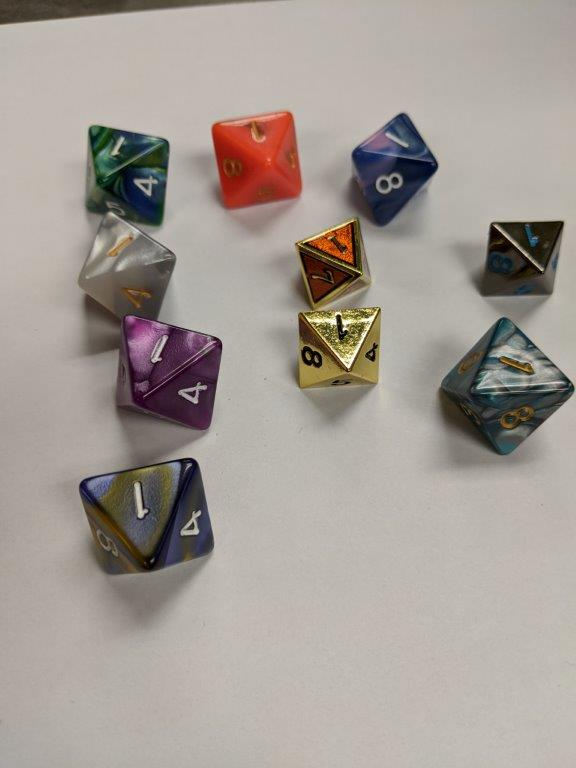d8-1: (435, 314, 575, 457), (86, 457, 215, 577), (111, 310, 221, 432), (76, 209, 178, 323), (355, 111, 440, 227), (86, 122, 171, 230), (212, 111, 303, 208), (295, 307, 379, 389), (297, 217, 371, 309), (482, 217, 562, 296)
